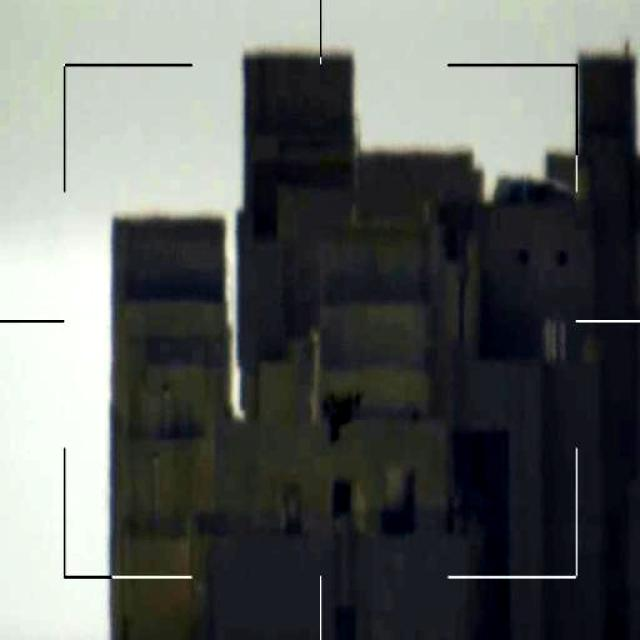bird: (318, 376, 365, 454)
